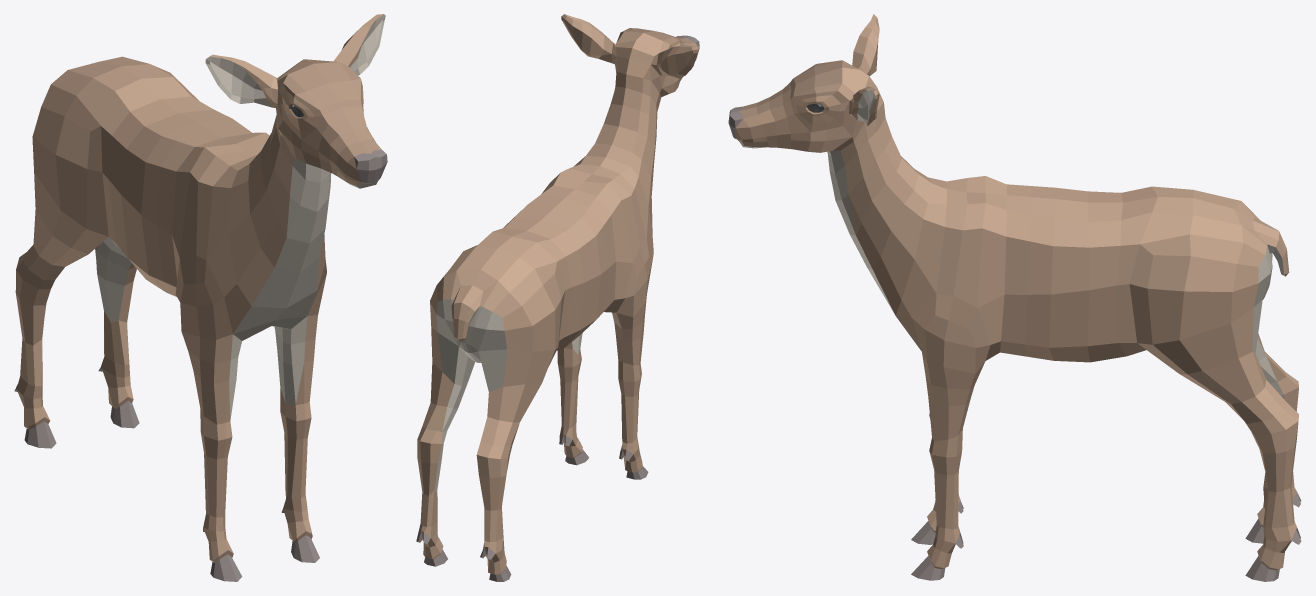
Rendered from Deer.gltf.
3 views of the same model, side by side, from view 1: azimuth 30°, elevation 25°; view 2: azimuth 150°, elevation 25°; view 3: azimuth 270°, elevation 25° (orthographic). The views are drawn at different scales.
Parts seen in each view (by area): view 1: Cube (×5); view 2: Cube (×4); view 3: Cube (×5).
Part boxes in pixels (<box>): Cube (×5): <box>14,14,387,581</box>; Cube (×4): <box>416,14,699,581</box>; Cube (×5): <box>728,14,1301,581</box>.
Bounding box in the file's own units: 0.4436 × 1.3 × 1.34.
